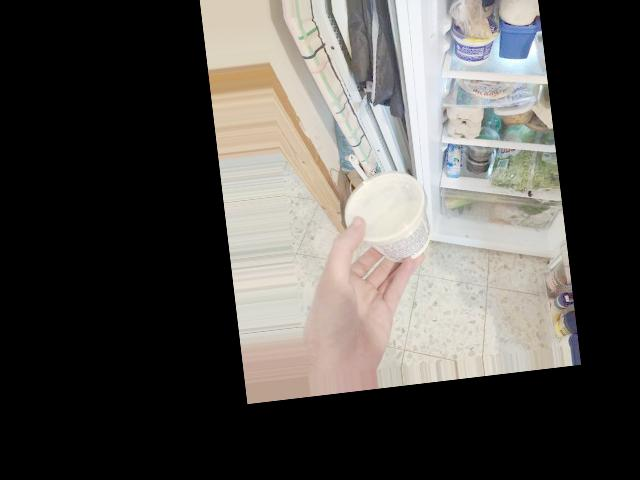cotage: (348, 169, 428, 260)
